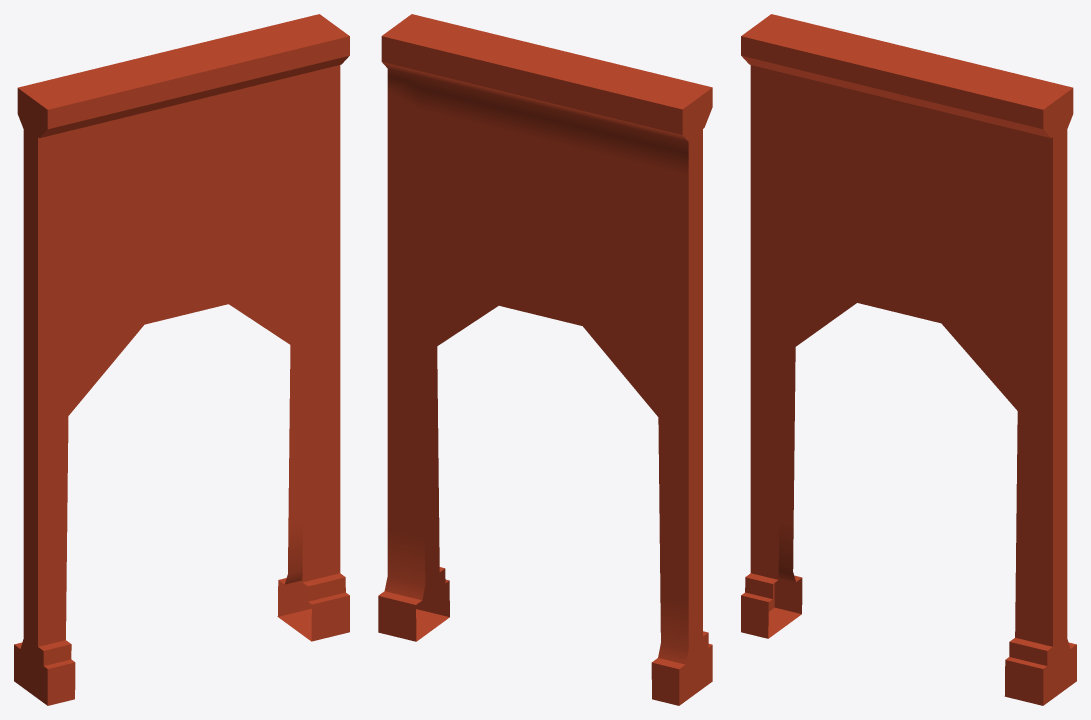
File: TallWall-Door.FBX
The picture shows the model from 3 angles, left to right: view 1: azimuth 30°, elevation 25°; view 2: azimuth 150°, elevation 25°; view 3: azimuth 330°, elevation 25°; orthographic projection.
Visible parts, largest first — view 1: TallWall-Door; view 2: TallWall-Door; view 3: TallWall-Door.
Boxes of the visible parts, bbox=[...] form: TallWall-Door: bbox=[14, 14, 349, 705]; TallWall-Door: bbox=[378, 14, 712, 705]; TallWall-Door: bbox=[741, 14, 1076, 705].
Bounding box in the file's own units: 118 × 223 × 22.83.
